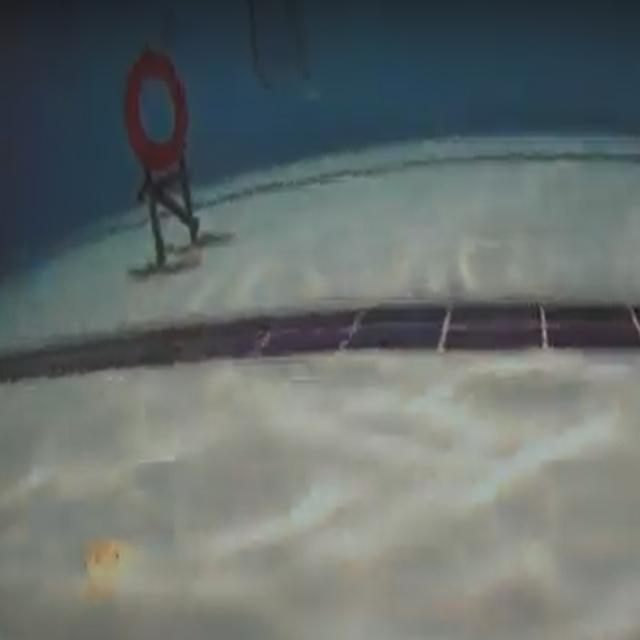Circle: (120, 45, 193, 169)
